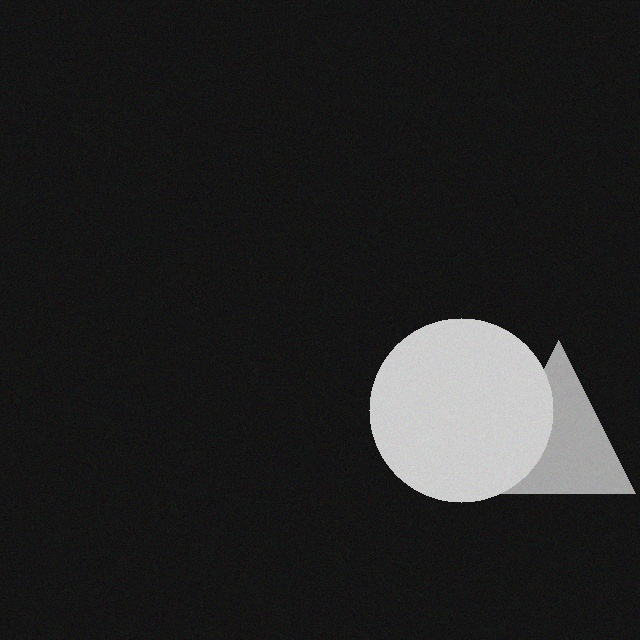circle: (370, 328, 554, 512)
triangle: (483, 350, 636, 503)
